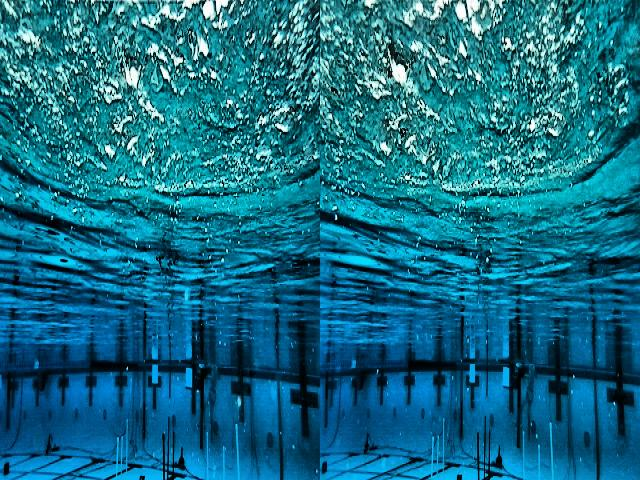gate: (460, 357, 522, 449), (143, 358, 205, 449)
